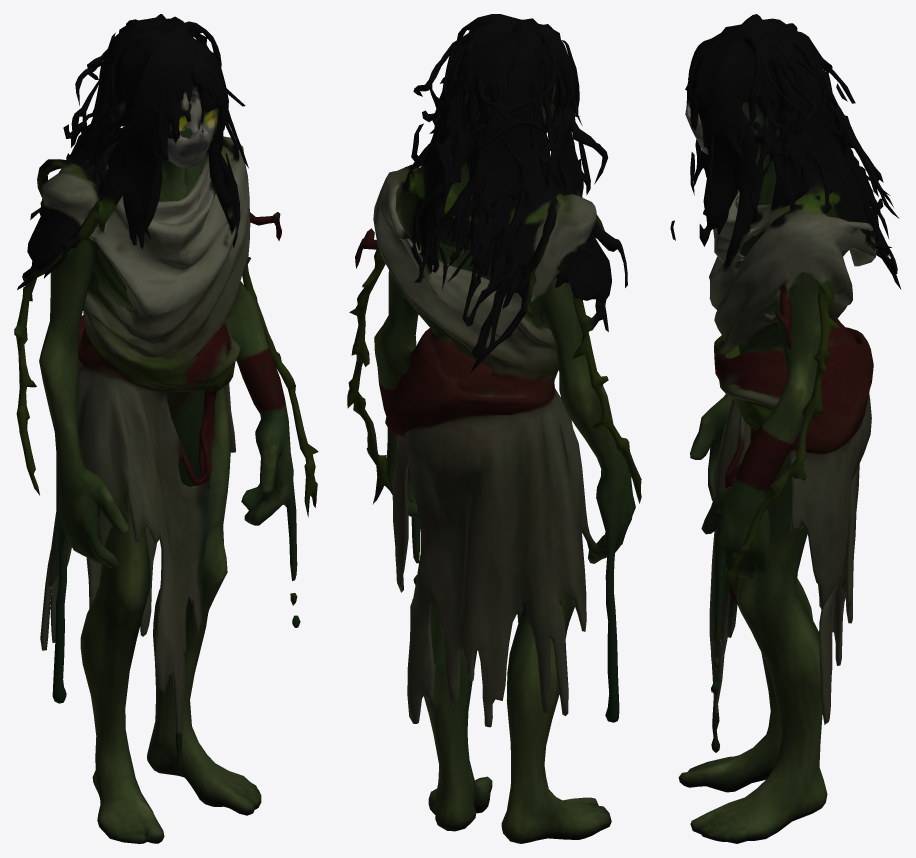
Rendered from drowned.glb.
3 views of the same model, side by side, from view 1: azimuth 30°, elevation 25°; view 2: azimuth 150°, elevation 25°; view 3: azimuth 270°, elevation 25° (orthographic). The views are drawn at different scales.
Visible parts, largest first — view 1: world; view 2: world; view 3: world.
Part boxes in pixels (bbox=[...]): world: bbox=[14, 14, 318, 843]; world: bbox=[347, 14, 641, 843]; world: bbox=[670, 14, 901, 843].
Size of the model in its own units: 0.3737 by 1 by 0.2686.
1 material, 1 textured.
